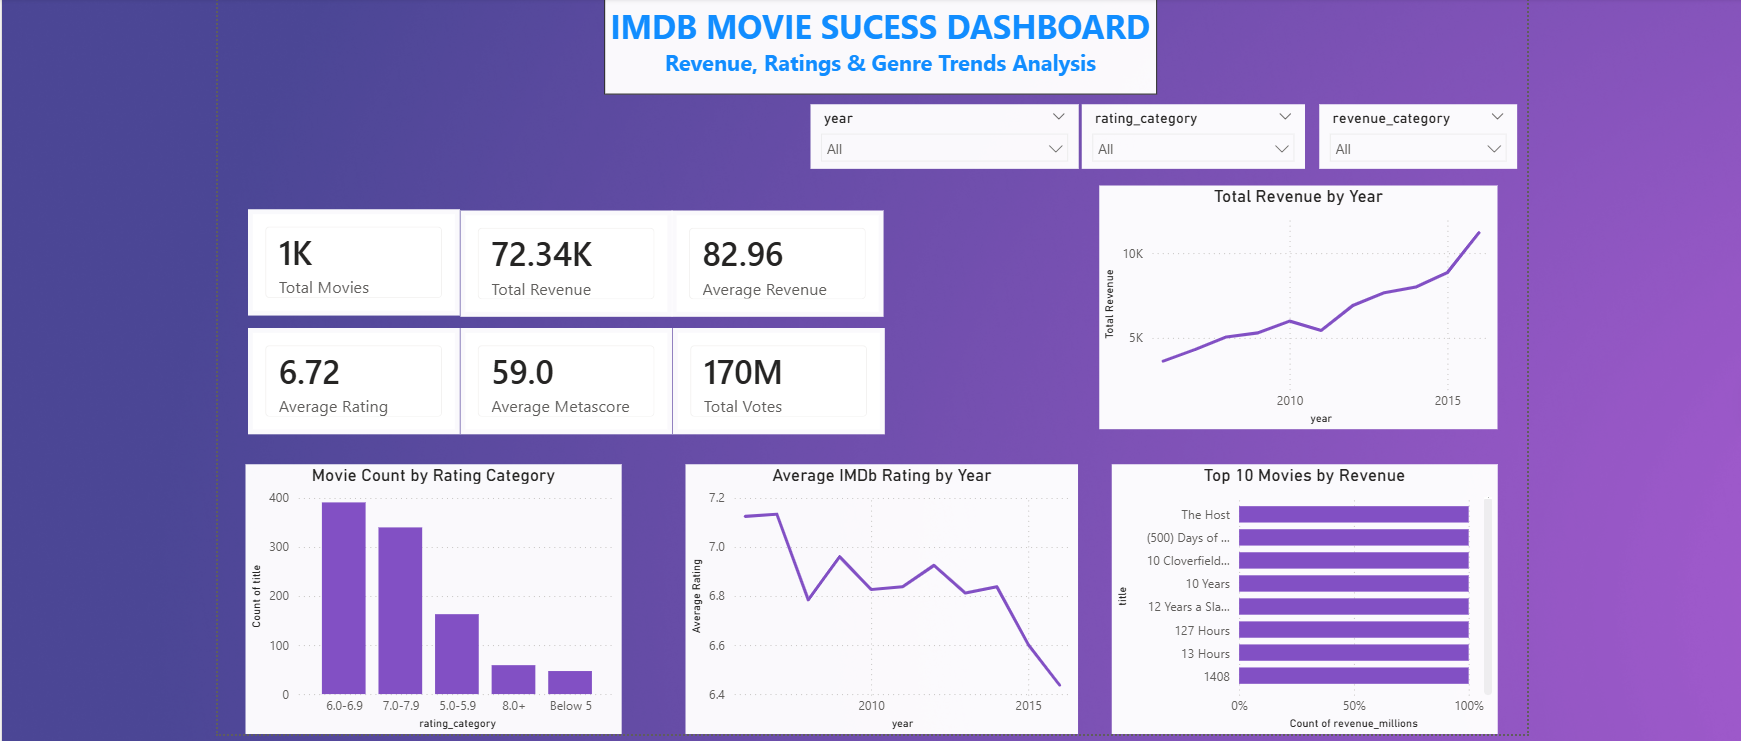

This screenshot's page, from the dashboard's own definition file:
{"tool":"powerbi","page":{"name":"Executive Overview","canvas":[1280,720],"ordinal":0},"visuals":[{"type":"textbox","box":[377.4,0,540.7,94.7],"z":0},{"type":"cardVisual","fields":{"Data":["fact_movies.Total Movies"]},"box":[29.6,207.2,207.2,104.3],"z":1000},{"type":"cardVisual","fields":{"Data":["fact_movies.Total Revenue"]},"box":[236.8,207.8,207.2,104.3],"z":2000},{"type":"cardVisual","fields":{"Data":["fact_movies.Average Revenue"]},"box":[444,207.8,207.2,104.3],"z":3000},{"type":"cardVisual","fields":{"Data":["fact_movies.Average Rating"]},"box":[29.6,322.5,207.2,104.3],"z":4000},{"type":"cardVisual","fields":{"Data":["fact_movies.Average Metascore"]},"box":[236.8,322.5,207.2,104.3],"z":5000},{"type":"cardVisual","fields":{"Data":["fact_movies.Total Votes"]},"box":[445.4,322.5,207.2,104.3],"z":6000},{"type":"lineChart","title":"Total Revenue by Year","fields":{"Category":["fact_movies.year"],"Y":["fact_movies.Total Revenue"]},"box":[861.8,183.9,389.7,238.8],"z":7000},{"type":"lineChart","title":"Average IMDb Rating by Year","fields":{"Category":["fact_movies.year"],"Y":["fact_movies.Average Rating"]},"box":[456.9,455.6,384.2,264.8],"z":8000},{"type":"hundredPercentStackedBarChart","title":"Top 10 Movies by Revenue","fields":{"Category":["fact_movies.title"],"Y":["Count(fact_movies.revenue_millions)"]},"box":[874.1,455.6,377.4,264.8],"z":9000},{"type":"columnChart","title":"Movie Count by Rating Category","fields":{"Category":["fact_movies.rating_category"],"Y":["CountNonNull(fact_movies.title)"]},"box":[27.4,455.6,367.8,264.8],"z":10000},{"type":"slicer","fields":{"Values":["fact_movies.year"]},"box":[579.1,104.3,262.1,63.1],"z":11000},{"type":"slicer","fields":{"Values":["fact_movies.rating_category"]},"box":[845.3,104.3,218.2,63.1],"z":12000},{"type":"slicer","fields":{"Values":["fact_movies.revenue_category"]},"box":[1077.2,104.3,193.5,63.1],"z":13000}]}

Visuals, with their boxes in screenshot pixels (x1, y1, x2, y2):
textbox: crop(604, 0, 1151, 91)
cardVisual - fact_movies.Total Movies: crop(252, 205, 462, 311)
cardVisual - fact_movies.Total Revenue: crop(462, 206, 672, 311)
cardVisual - fact_movies.Average Revenue: crop(672, 206, 881, 311)
cardVisual - fact_movies.Average Rating: crop(252, 322, 462, 427)
cardVisual - fact_movies.Average Metascore: crop(462, 322, 672, 427)
cardVisual - fact_movies.Total Votes: crop(673, 322, 883, 427)
"Total Revenue by Year" lineChart: crop(1094, 182, 1489, 423)
"Average IMDb Rating by Year" lineChart: crop(685, 457, 1074, 725)
"Top 10 Movies by Revenue" hundredPercentStackedBarChart: crop(1107, 457, 1489, 725)
"Movie Count by Rating Category" columnChart: crop(250, 457, 622, 725)
slicer - fact_movies.year: crop(808, 101, 1074, 165)
slicer - fact_movies.rating_category: crop(1078, 101, 1299, 165)
slicer - fact_movies.revenue_category: crop(1313, 101, 1508, 165)
